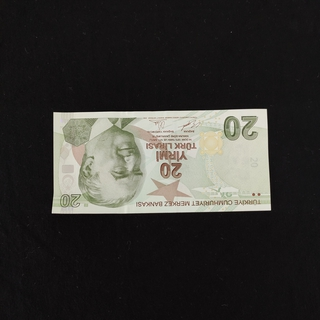20TLFront: (53, 108, 271, 213)
